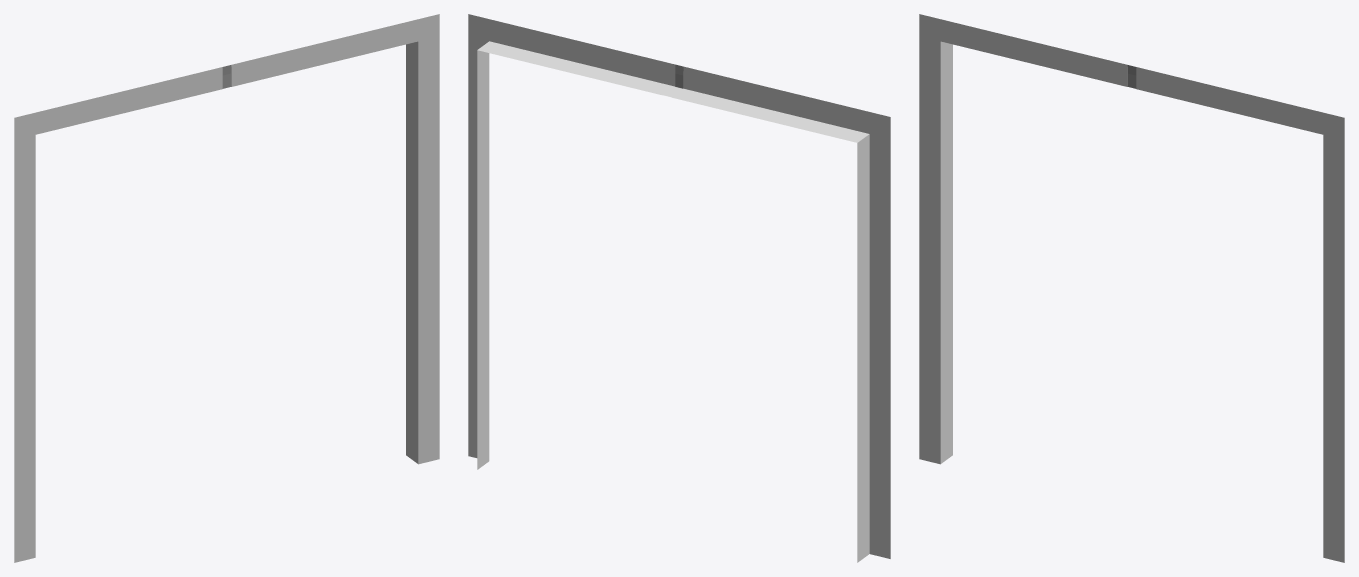
Rendered from Ext-ConcreteGarageFrame.fbx.
The picture shows the model from 3 angles, left to right: view 1: azimuth 30°, elevation 25°; view 2: azimuth 150°, elevation 25°; view 3: azimuth 330°, elevation 25°; orthographic projection.
Parts seen in each view (by area): view 1: Ext-ConcreteGarageFrame; view 2: Ext-ConcreteGarageFrame; view 3: Ext-ConcreteGarageFrame.
Part boxes in pixels (<box>): Ext-ConcreteGarageFrame: <box>14,14,439,562</box>; Ext-ConcreteGarageFrame: <box>468,14,890,562</box>; Ext-ConcreteGarageFrame: <box>919,14,1344,562</box>.
Size of the model in its own units: 200 by 200 by 10.
